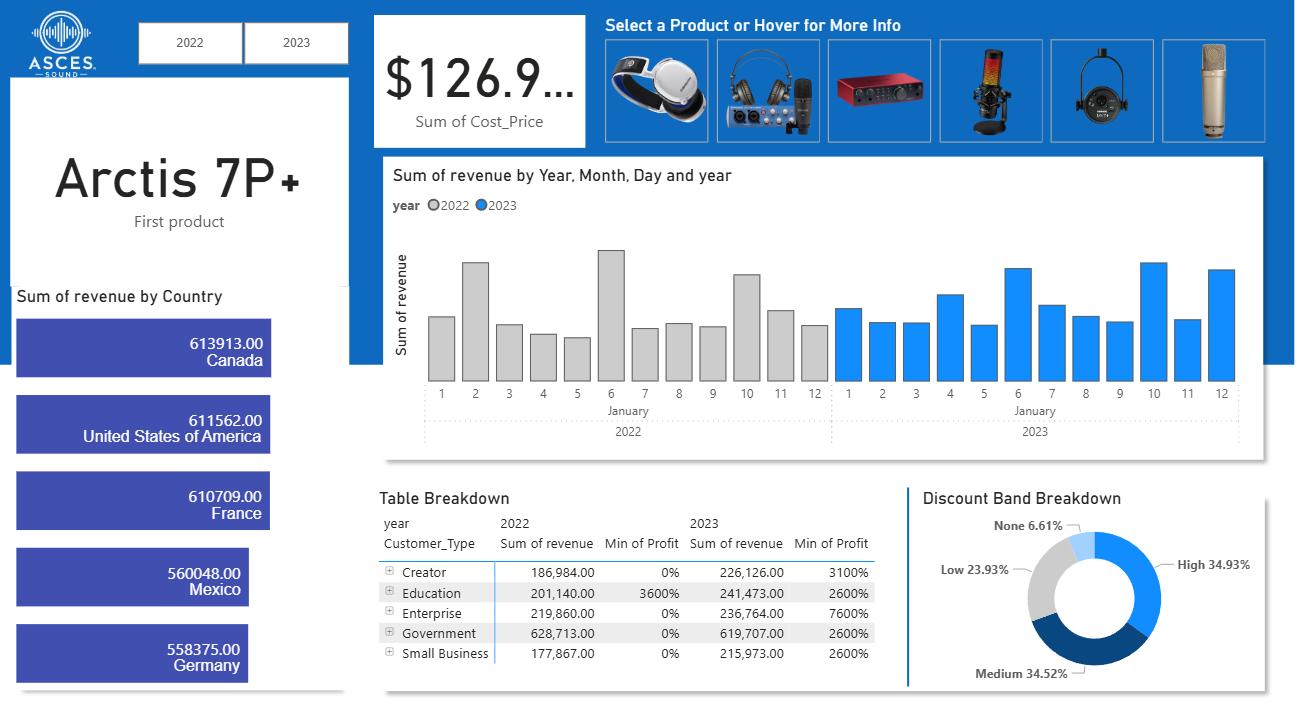

What the dashboard file says about the page in this screenshot:
{"tool":"powerbi","page":{"name":"Page 1","canvas":[1280,720],"ordinal":0},"visuals":[{"type":"shape","box":[0,0,1279.2,360.3],"z":0},{"type":"shape","box":[11.4,68.6,334.3,620],"z":1000},{"type":"shape","box":[370,145.7,887.1,317.1],"z":2000},{"type":"shape","box":[370,481.4,888.6,210],"z":3000},{"type":"image","box":[11.4,0,93.6,84.5],"z":4000},{"type":"advancedSlicerVisual","title":"Select a Product or Hover for More Info","fields":{"Values":["Query1.Image_url"]},"box":[594.3,14.3,664.3,131.4],"z":5000},{"type":"card","fields":{"Values":["Sum(Query1.Cost_Price)"]},"box":[370,14.3,208.6,131.4],"z":6000},{"type":"card","fields":{"Values":["Min(Query1.product)"]},"box":[10.9,76.4,334.4,206.1],"z":7000},{"type":"clusteredBarChart","fields":{"Category":["Query1.Country"],"Y":["Sum(Query1.revenue)"]},"box":[12,282.2,333.2,399.3],"z":8000},{"type":"columnChart","fields":{"Y":["Sum(Query1.revenue)"],"Category":["Query1.Date.Variation.Date Hierarchy.Year","Query1.Date.Variation.Date Hierarchy.Month","Query1.Date.Variation.Date Hierarchy.Day"],"Series":["Query1.year"]},"box":[384.3,162.9,855.7,285.7],"z":9000},{"type":"donutChart","title":"Discount Band Breakdown","fields":{"Category":["Query1.Discount_Band"],"Y":["Sum(Query1.revenue)"]},"box":[907.7,481.8,349.4,200.6],"z":10000},{"type":"pivotTable","title":"Table Breakdown","fields":{"Rows":["Query1.Customer_Type","Query1.product"],"Columns":["Query1.year"],"Values":["Sum(Query1.revenue)","Min(Query1.Profit)"]},"box":[370,481.4,528.6,197.1],"z":11000},{"type":"shape","box":[752.1,481.8,292.1,196.5],"z":12000},{"type":"slicer","fields":{"Values":["Query1.year"]},"box":[111.4,14.3,258.6,55.7],"z":12001}]}

Visuals, with their boxes in screenshot pixels (x1, y1, x2, y2), scaled from the page's 1280x720 canvas onto the 1297x726 screenshot:
shape: [0, 0, 1296, 363]
shape: [12, 69, 350, 694]
shape: [375, 147, 1274, 467]
shape: [375, 485, 1275, 697]
image: [12, 0, 106, 85]
"Select a Product or Hover for More Info" advancedSlicerVisual: [602, 14, 1275, 147]
card - Sum(Query1.Cost_Price): [375, 14, 586, 147]
card - Min(Query1.product): [11, 77, 350, 285]
clusteredBarChart - Query1.Country x Sum(Query1.revenue): [12, 285, 350, 687]
columnChart - Sum(Query1.revenue) x Query1.Date.Variation.Date Hierarchy.Year: [389, 164, 1256, 452]
"Discount Band Breakdown" donutChart: [920, 486, 1274, 688]
"Table Breakdown" pivotTable: [375, 485, 911, 684]
shape: [762, 486, 1058, 684]
slicer - Query1.year: [113, 14, 375, 71]
